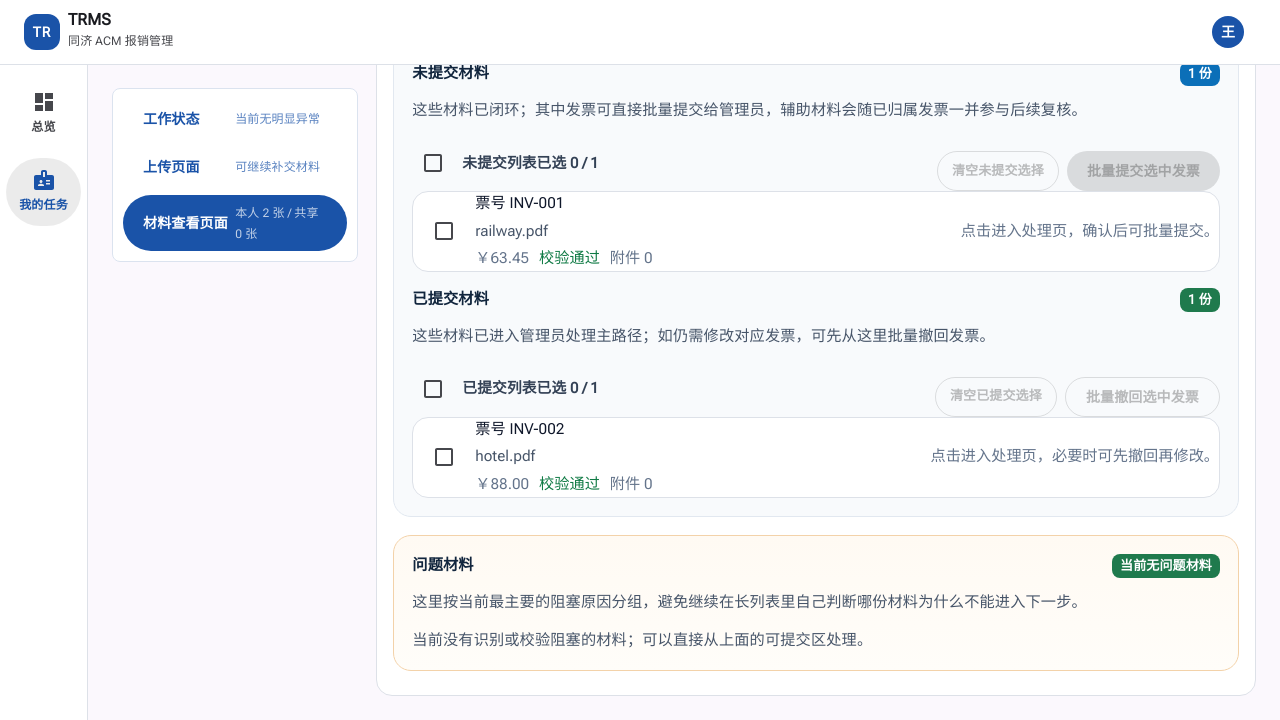
Scenario: MemberInvoiceWorkbenchPage batch submission › withdraws selected invoices and shows success feedback
The image size is (1280, 720).
(page scrolled)
Click the checkbox named "批量选择发票 INV-002" at (444, 457), box [432,445,456,469]
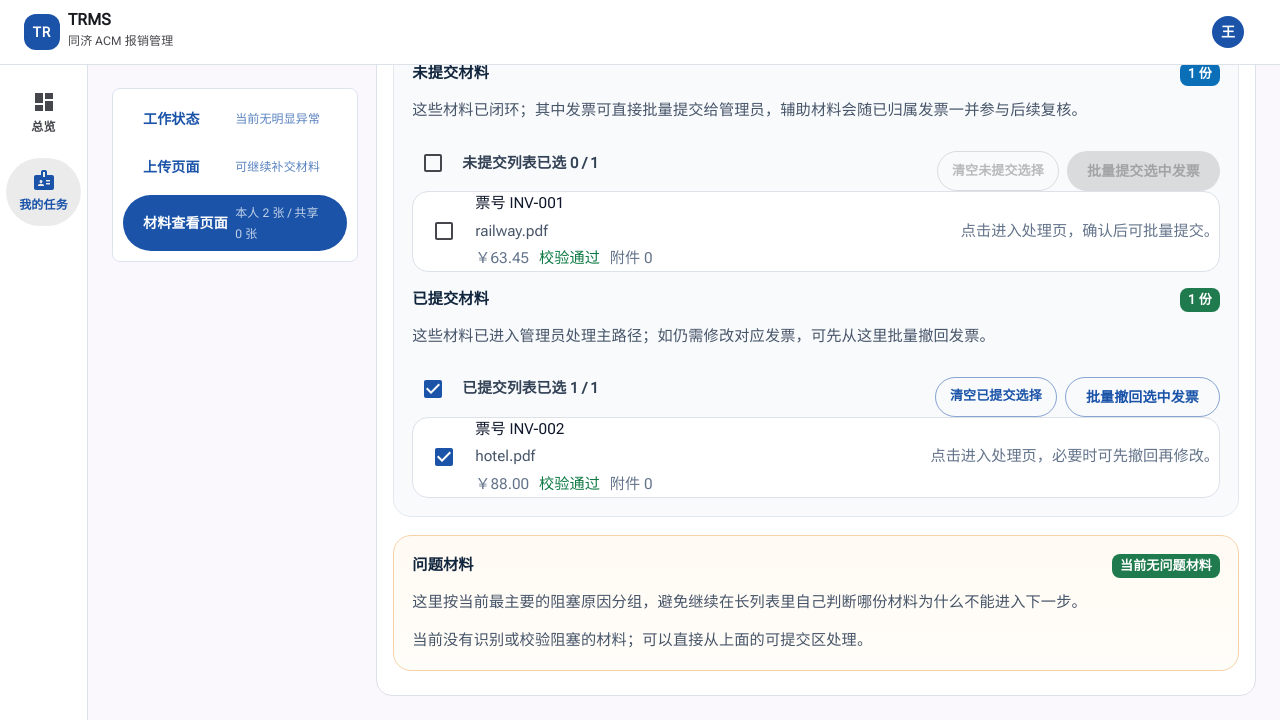
Click the button "批量撤回选中发票" at (1142, 397), box [1065,377,1220,417]
(page scrolled)
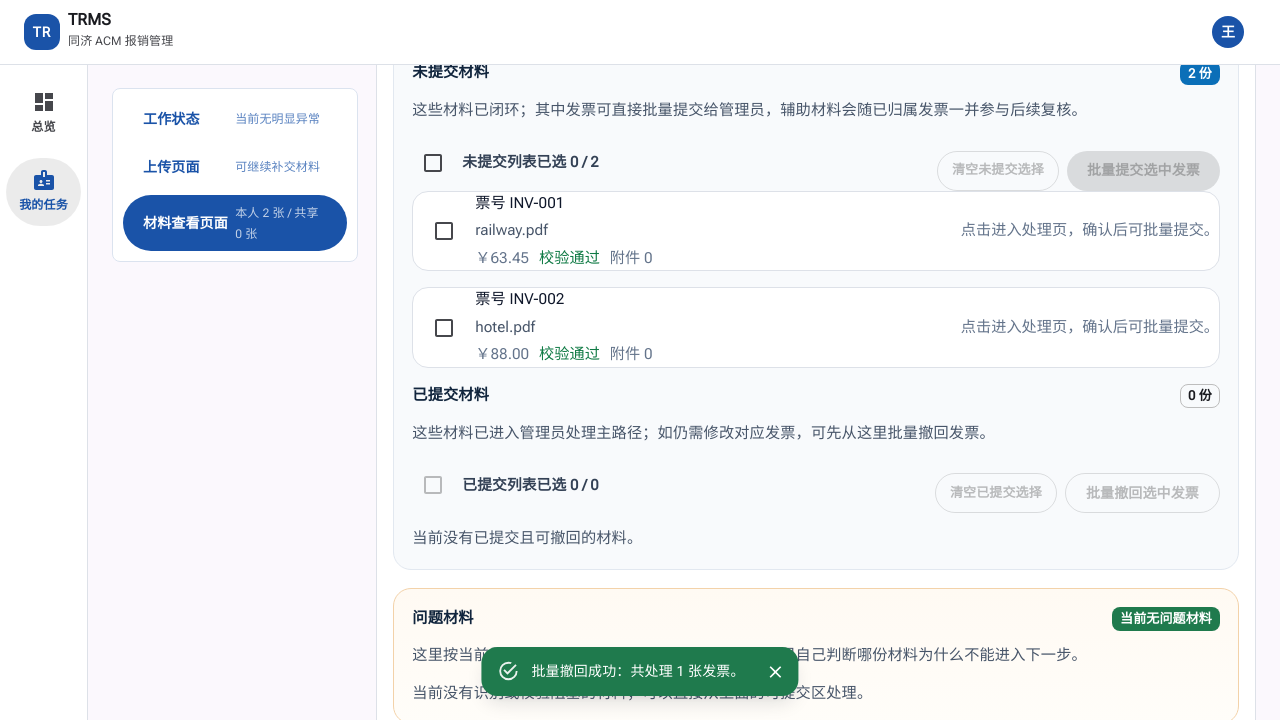
Now the text "未提交列表已选 0 / 2" is shown, box [462,151,599,174]
Now the text "已提交列表已选 0 / 0" is shown, box [462,474,599,496]
